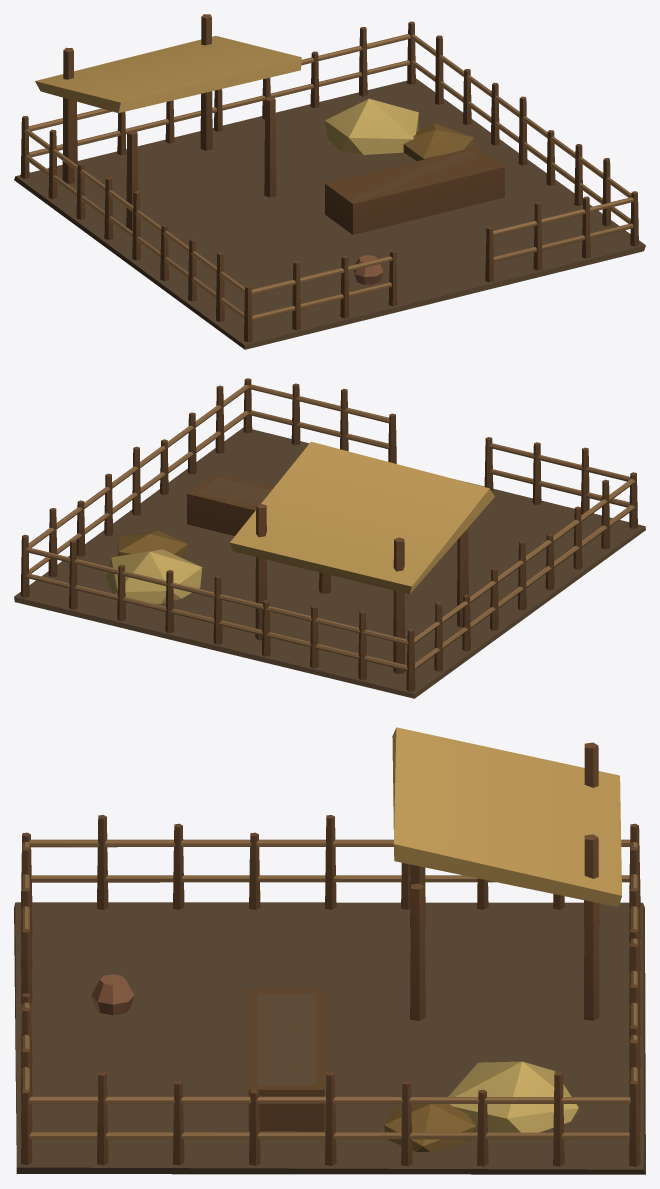
The model's file is pasture_s2.glb.
3 renders of one model, top to bottom at view 1: azimuth 30°, elevation 25°; view 2: azimuth 150°, elevation 25°; view 3: azimuth 270°, elevation 25°, orthographic. The views are drawn at different scales.
Visible parts, largest first — view 1: pasture_s2; view 2: pasture_s2; view 3: pasture_s2.
Part boxes in pixels (box(x1,y1,x2,y2)): pasture_s2: box(14, 14, 645, 349); pasture_s2: box(14, 378, 645, 698); pasture_s2: box(14, 727, 645, 1174).
Size of the model in its own units: 2.91 by 1.24 by 2.91.
